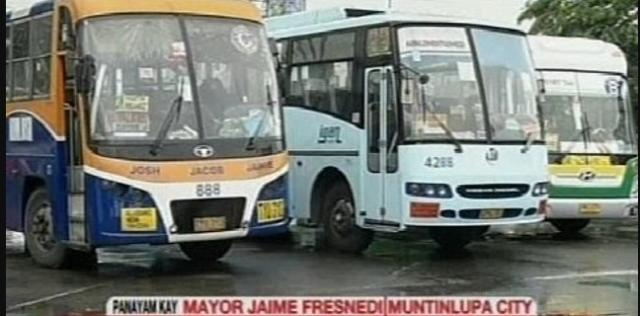bus: (4, 1, 285, 271), (263, 5, 551, 257), (530, 34, 639, 231)
